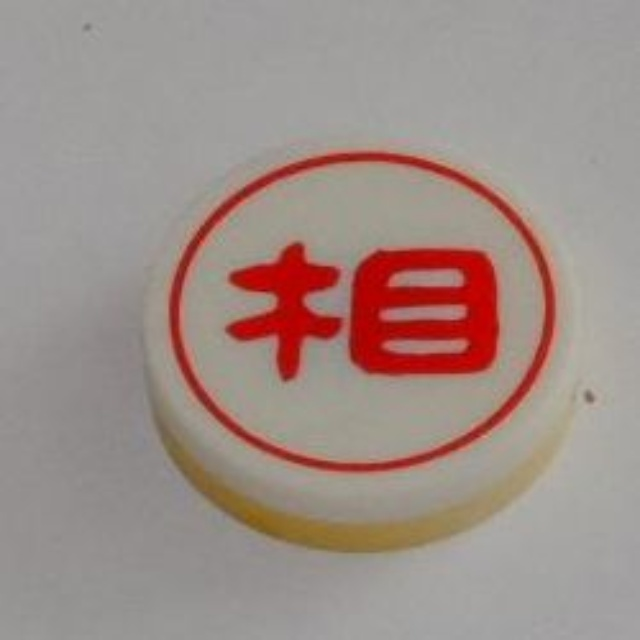red_bo: (137, 125, 594, 552)
